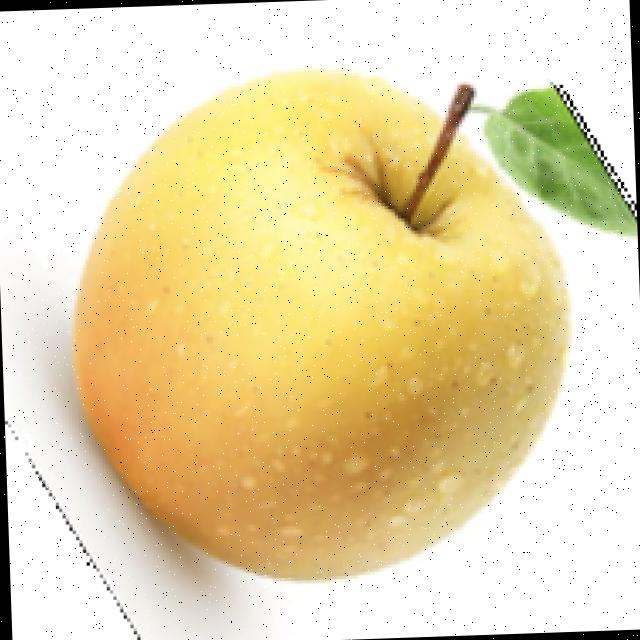apple: (19, 63, 637, 640)
